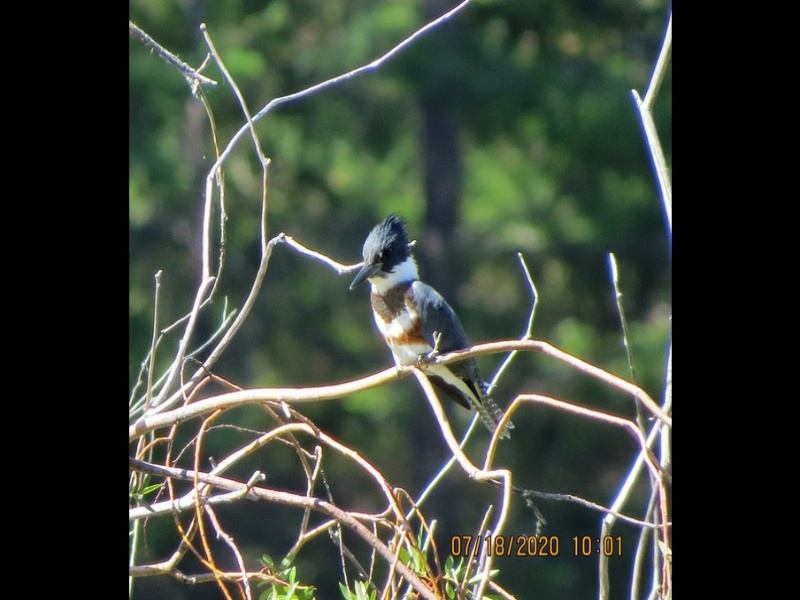kingfisher: (348, 213, 516, 444)
